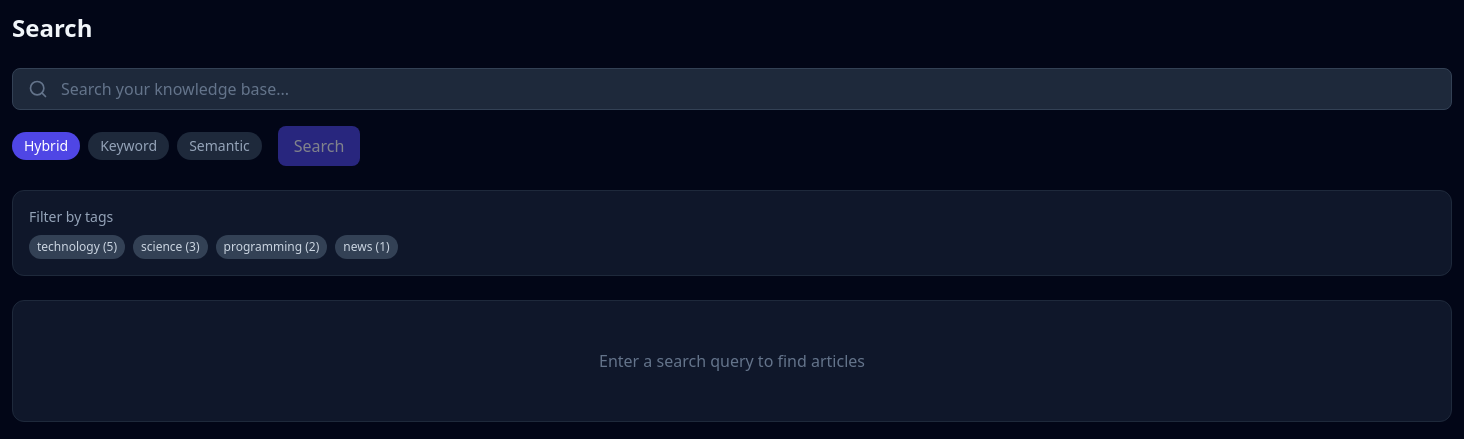
Test case: Search › shows error state when search fails
Type "test query" into the field with placeholder "Search your knowledge base...". click: (732, 89)
box: [12, 68, 1452, 110]
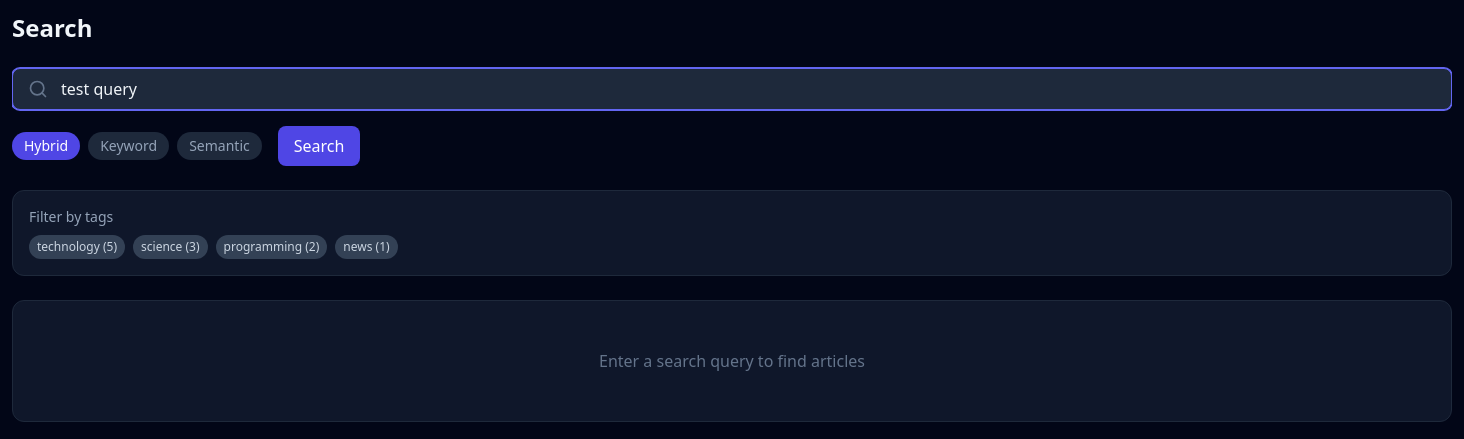
Click the button "Search". click: (319, 146)
box: [278, 126, 360, 166]
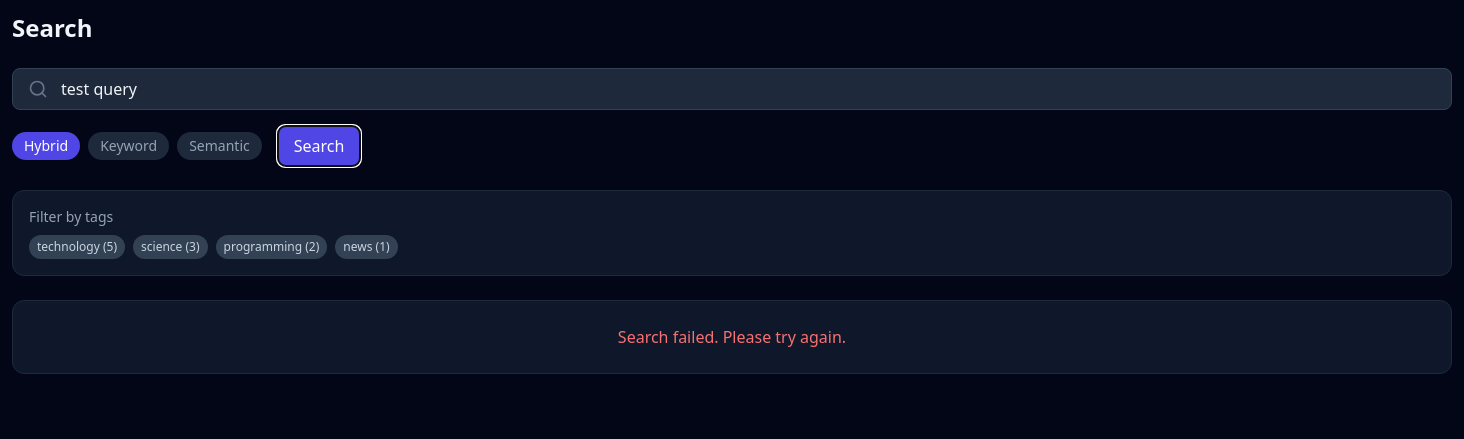
Now the text "Search failed. Please try again." is shown, box [12, 300, 1452, 374]
